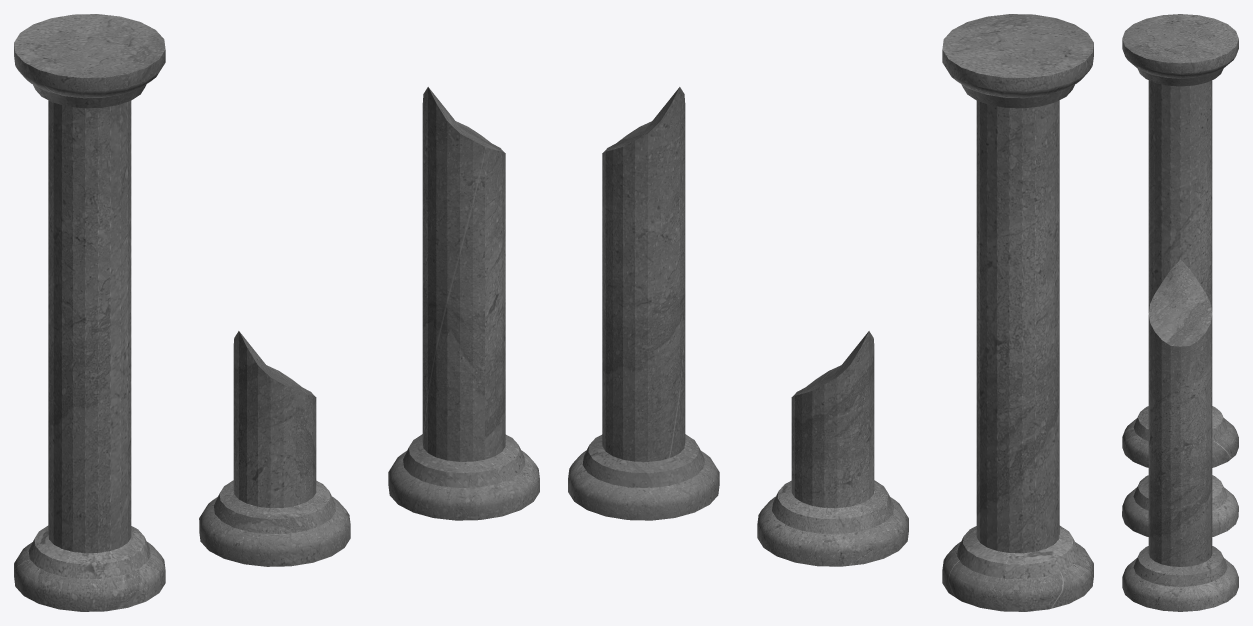
The model's file is Pillar.fbx.
3 views of the same model, side by side, from view 1: azimuth 30°, elevation 25°; view 2: azimuth 150°, elevation 25°; view 3: azimuth 270°, elevation 25° (orthographic). The views are drawn at different scales.
Parts seen in each view (by area): view 1: Main, MainDMG, MainHalfDMG; view 2: Main, MainDMG, MainHalfDMG; view 3: MainDMG, Main, MainHalfDMG.
Boxes of the visible parts, x1=… form: Main: x1=14, y1=14, x2=165, y2=611; MainDMG: x1=388, y1=87, x2=539, y2=520; MainHalfDMG: x1=199, y1=331, x2=350, y2=566; Main: x1=942, y1=14, x2=1093, y2=611; MainDMG: x1=568, y1=87, x2=719, y2=520; MainHalfDMG: x1=757, y1=331, x2=908, y2=566; MainDMG: x1=1122, y1=259, x2=1238, y2=611; Main: x1=1122, y1=14, x2=1238, y2=467; MainHalfDMG: x1=1122, y1=475, x2=1238, y2=536.
Size of the model in its own units: 7.67 by 7.73 by 2.
